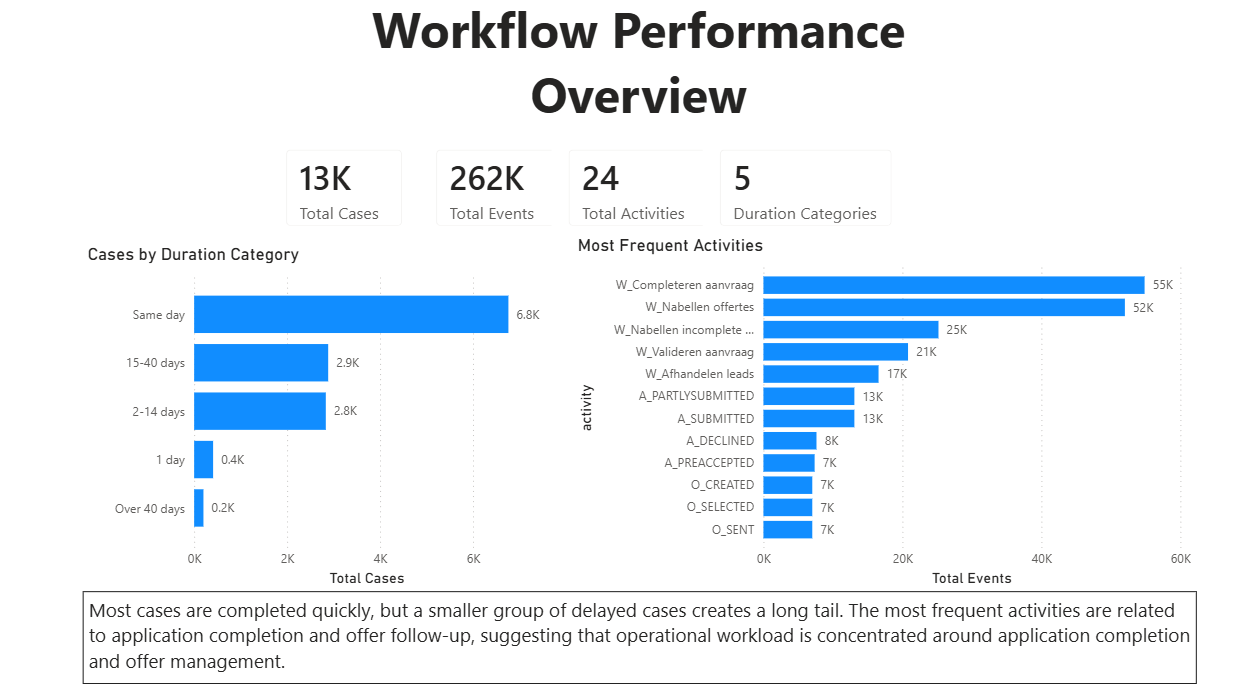

The dashboard page shown, as its layout file describes it:
{"tool":"powerbi","page":{"name":"Process Overview","canvas":[1280,720],"ordinal":0},"visuals":[{"type":"textbox","box":[280,0,727.4,140.8],"z":0},{"type":"cardVisual","fields":{"Data":["case_duration_categories.Total Cases"]},"box":[280.1,140.8,148.1,110],"z":1},{"type":"cardVisual","fields":{"Data":["activity_frequency.Total Events"]},"box":[428.2,140.8,154,110],"z":2},{"type":"cardVisual","fields":{"Data":["activity_frequency.Total Activities"]},"box":[558.8,140.8,174.5,110],"z":3},{"type":"cardVisual","fields":{"Data":["case_duration_categories.Duration Categories"]},"box":[706.9,140.8,203.9,110],"z":4},{"type":"clusteredBarChart","title":"Cases by Duration Category","fields":{"Category":["case_duration_categories.duration_category"],"Y":["Sum(case_duration_categories.total_cases)"]},"box":[96.8,249.3,462,341.7],"z":5},{"type":"clusteredBarChart","title":"Most Frequent Activities","fields":{"Category":["activity_frequency.activity"],"Y":["Sum(activity_frequency.total_events)"]},"box":[579.3,240.5,613,350.5],"z":6},{"type":"textbox","box":[97.2,591.5,1095.8,91],"z":7}]}

Visuals, with their boxes in screenshot pixels (x1, y1, x2, y2), scaled from the page's 1280x720 canvas onto the 1235x697 screenshot:
textbox: {"x1": 270, "y1": 0, "x2": 972, "y2": 136}
cardVisual - case_duration_categories.Total Cases: {"x1": 270, "y1": 136, "x2": 413, "y2": 243}
cardVisual - activity_frequency.Total Events: {"x1": 413, "y1": 136, "x2": 562, "y2": 243}
cardVisual - activity_frequency.Total Activities: {"x1": 539, "y1": 136, "x2": 708, "y2": 243}
cardVisual - case_duration_categories.Duration Categories: {"x1": 682, "y1": 136, "x2": 879, "y2": 243}
"Cases by Duration Category" clusteredBarChart: {"x1": 93, "y1": 241, "x2": 539, "y2": 572}
"Most Frequent Activities" clusteredBarChart: {"x1": 559, "y1": 233, "x2": 1150, "y2": 572}
textbox: {"x1": 94, "y1": 573, "x2": 1151, "y2": 661}
